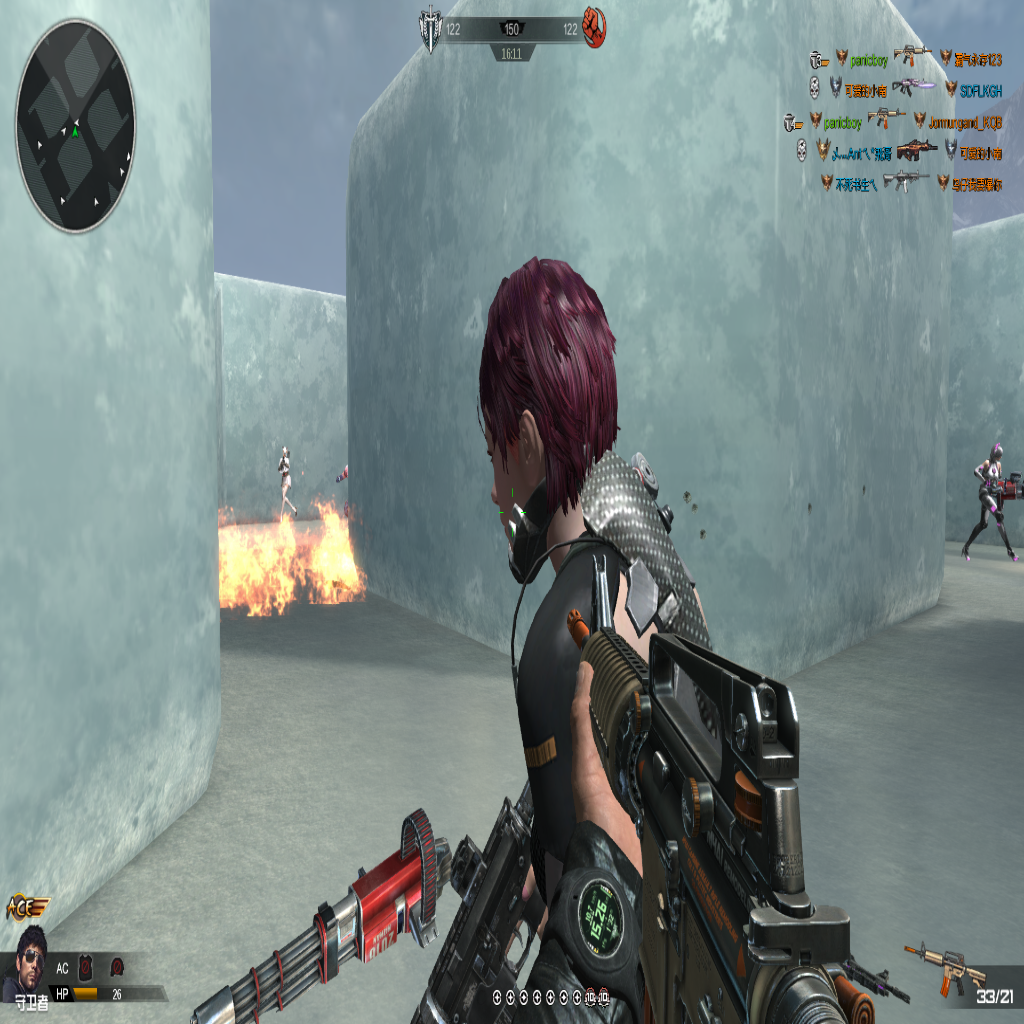tt: (962, 446, 1018, 561)
